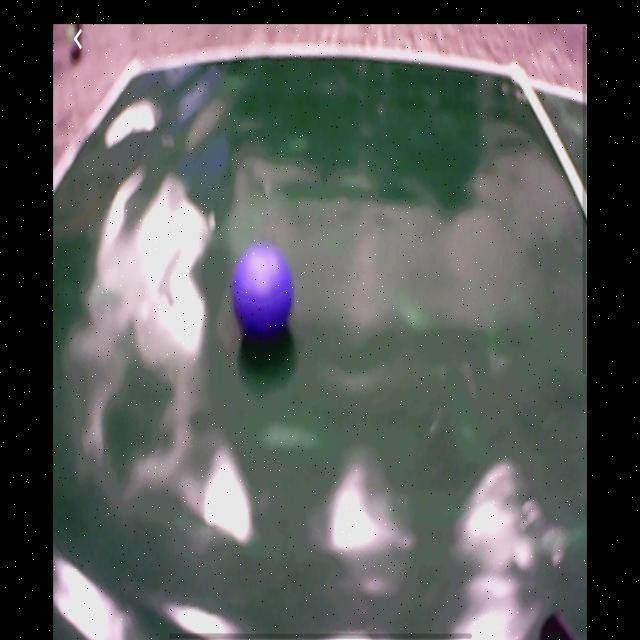ball: (230, 244, 294, 335)
